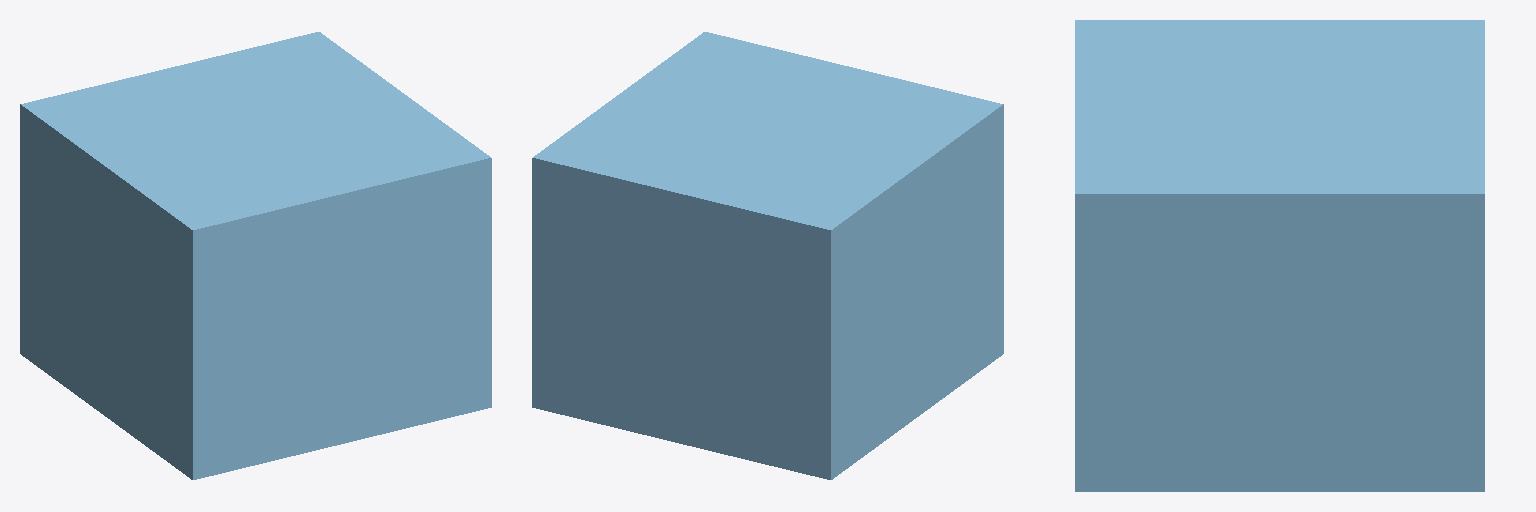
The robot description file, URDF, robot "onshape":
<robot name="onshape">
	<link name="part_1">
		<visual>
			<origin xyz="0 0 0" rpy="0 -0 0" />
			<geometry>
                <mesh filename="package://display_environment/meshes/part_1.stl"/>
			</geometry>
			<material name="part_1_material">
				<color rgba="0.61568627450980395466 0.81176470588235294379 0.92941176470588238168 1.0"/>
			</material>
		</visual>
		<collision>
			<origin xyz="0 0 0" rpy="0 -0 0" />
			<geometry>
				<mesh filename="package://display_environment/meshes/part_1.stl"/>
			</geometry>
		</collision>
		<inertial>
			<origin xyz="-9.8300996972019073819e-18 1.0755285551056203985e-16 0.40000000000000007772" rpy="0 0 0"/>
			<mass value="511.99999999999994316" />
			<inertia ixx="69.973333333333329165" ixy="1.8947806286936004694e-15"  ixz="-5.6843418860808006192e-16" iyy="69.973333333333329165" iyz="1.6934601868949053036e-15" izz="85.333333333333328596" />
		</inertial>
	</link>
</robot>

--- What the picture shows (computed from the rendered views, not written in the file) ---
Views: 3 orthographic renders of the robot side by side, from view 1: azimuth 30°, elevation 25°; view 2: azimuth 150°, elevation 25°; view 3: azimuth 270°, elevation 25°.
Robot: onshape — 1 links, 0 joints (none); root link part_1; default pose: every joint at zero.
Links seen in each view (by area): view 1: part_1; view 2: part_1; view 3: part_1.
Link boxes in pixels (left/top/right/bottom): part_1: left=20, top=32, right=491, bottom=479; part_1: left=532, top=32, right=1003, bottom=479; part_1: left=1075, top=20, right=1484, bottom=491.
Bounding box of the posed robot: 1 × 1 × 0.8 m (x, y, z).
1 mesh visuals loaded from 1 distinct referenced files (1 binary STL).